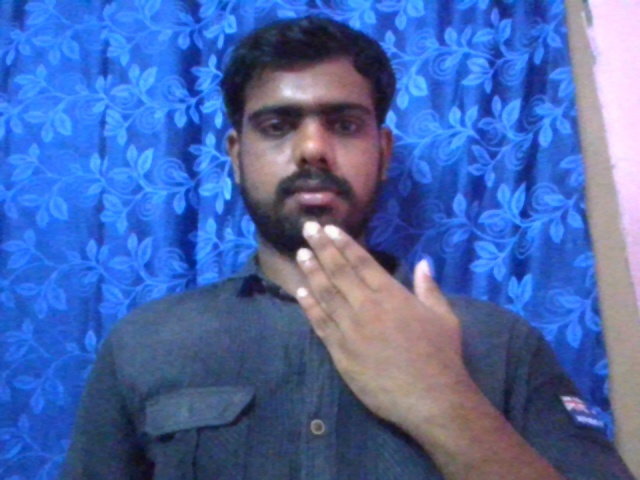Thanks: (292, 215, 463, 413)
